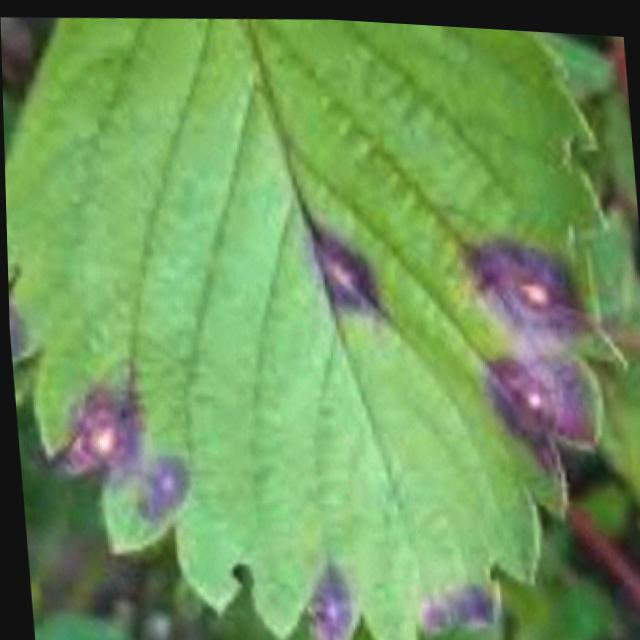Leaf Spot: (4, 15, 626, 640)
